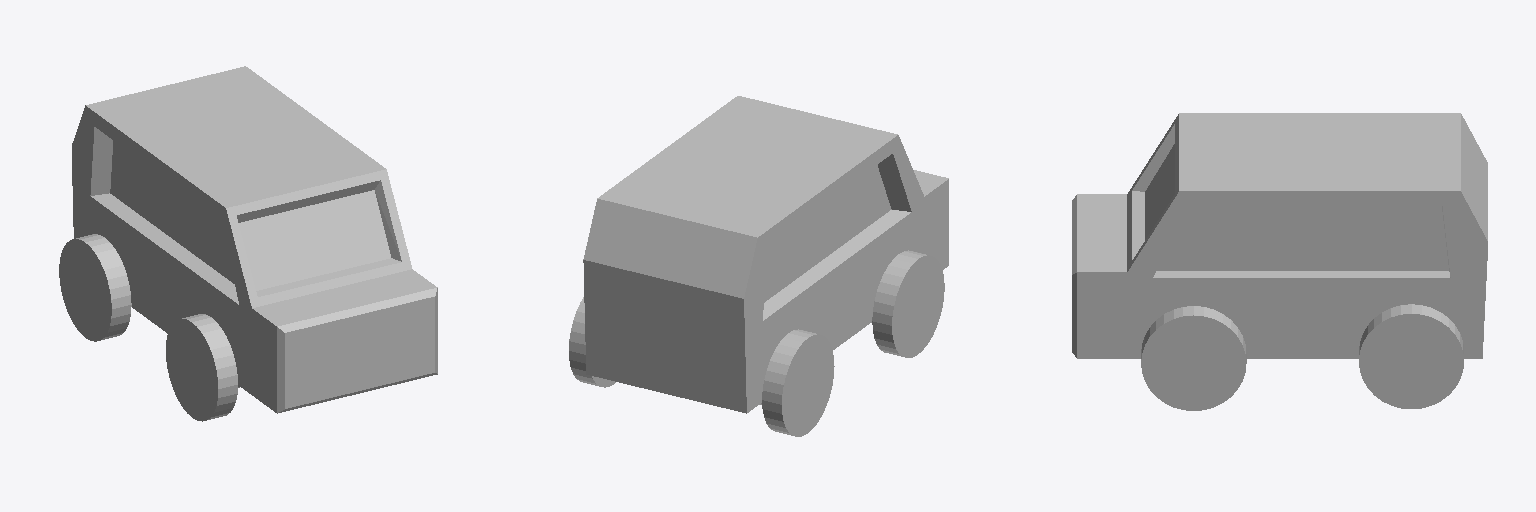
Rendered from Auto3.obj.
3 views of the same model, side by side, from view 1: azimuth 30°, elevation 25°; view 2: azimuth 150°, elevation 25°; view 3: azimuth 270°, elevation 25° (orthographic).
Visible parts, largest first — view 1: Cube; view 2: Cube; view 3: Cube.
Boxes of the visible parts, <box> form: Cube: <box>59,66,437,421</box>; Cube: <box>569,96,948,436</box>; Cube: <box>1072,113,1487,410</box>.
Size of the model in its own units: 2.67 by 2.48 by 4.5.